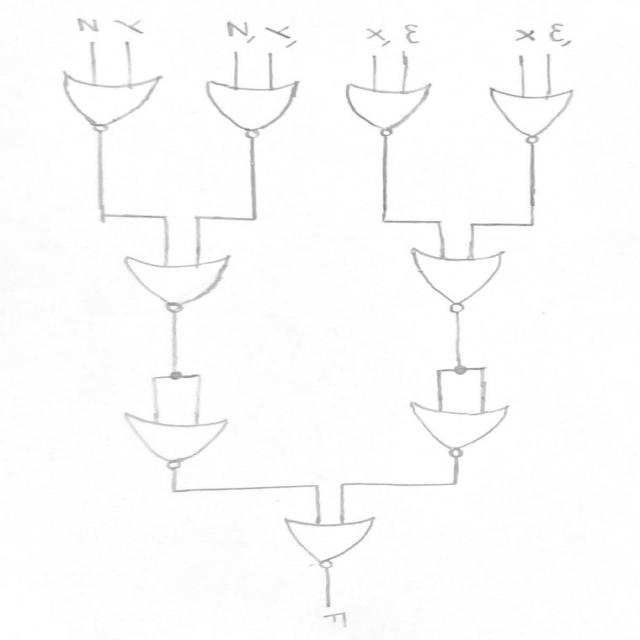NOR: (108, 243, 261, 327), (101, 408, 258, 478), (246, 508, 401, 574), (398, 246, 532, 319), (396, 391, 525, 466), (44, 70, 166, 139), (480, 83, 594, 155), (203, 73, 309, 143), (340, 76, 442, 142)
